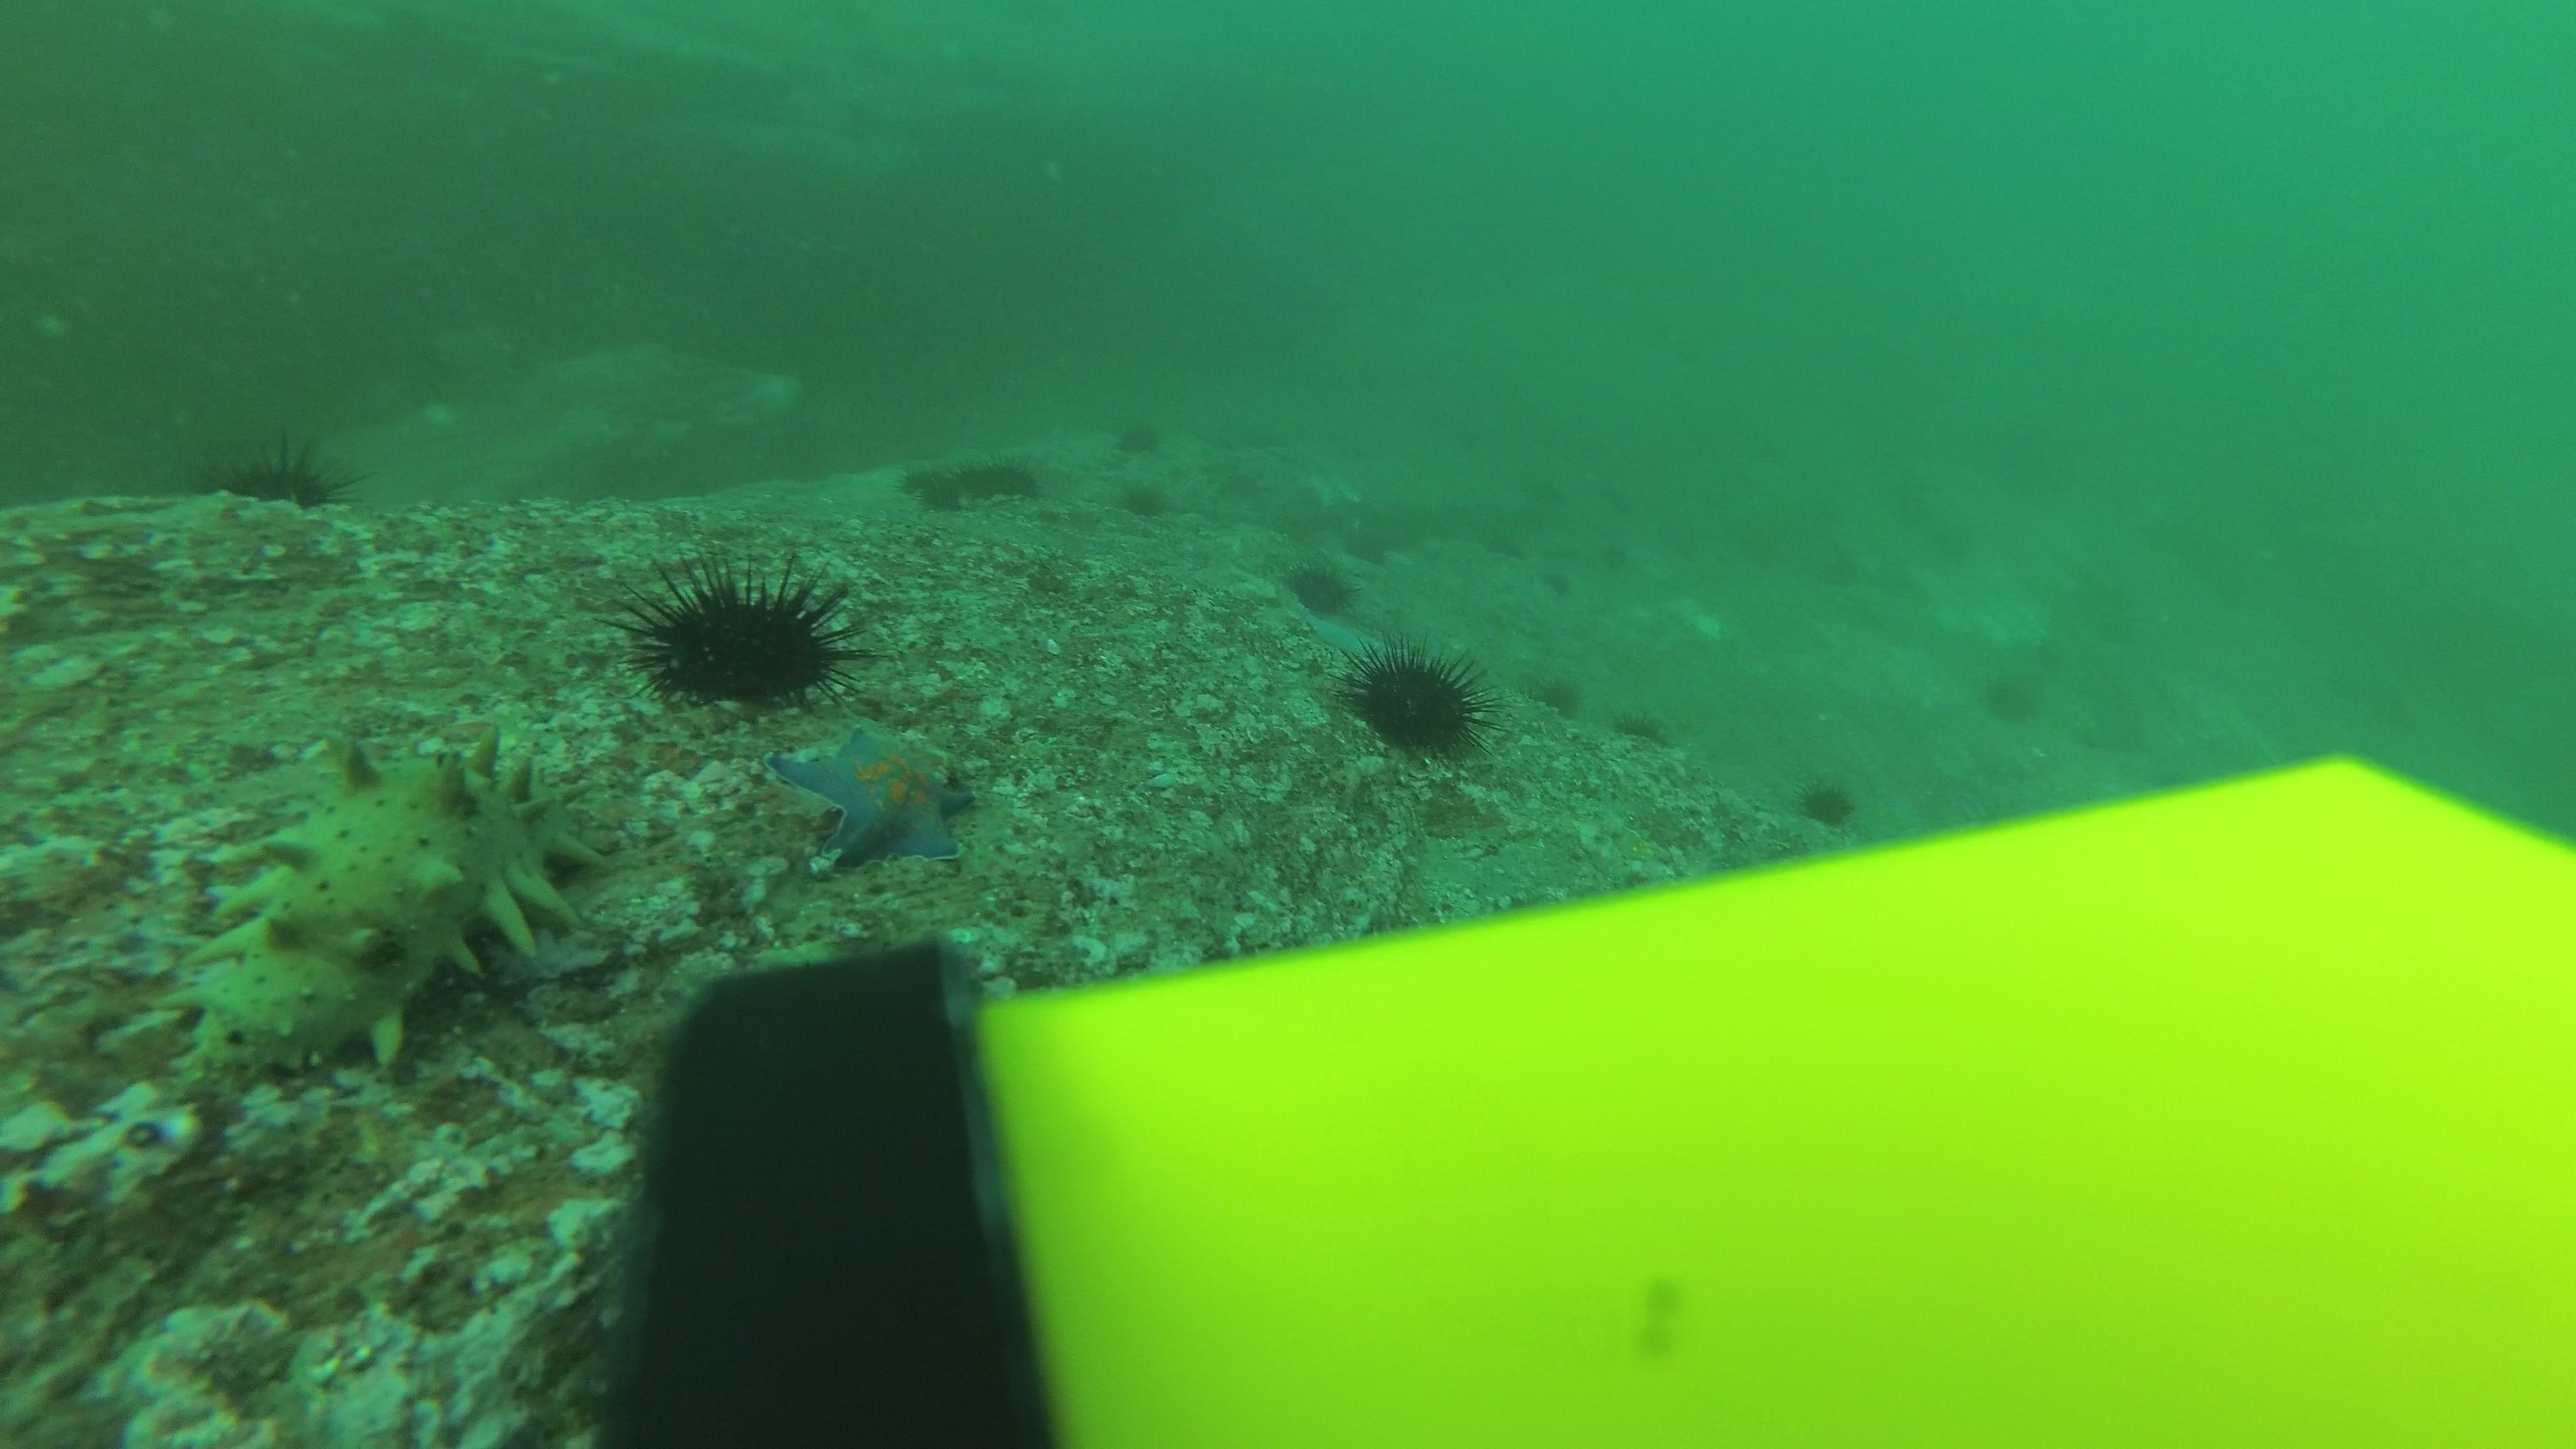echinus: (625, 556, 855, 711), (1346, 640, 1488, 759), (223, 433, 350, 517), (1284, 552, 1357, 616), (1980, 665, 2045, 727), (1796, 771, 1859, 830), (1115, 474, 1171, 522), (1614, 702, 1670, 748), (1483, 524, 1532, 573), (1534, 556, 1583, 605), (1589, 531, 1638, 580), (1732, 527, 1782, 577), (1868, 556, 1918, 605), (1870, 479, 1920, 529), (915, 469, 966, 517), (885, 458, 936, 506), (945, 455, 996, 502), (1534, 671, 1583, 718), (991, 453, 1040, 501), (1668, 513, 1716, 563), (1824, 545, 1874, 593), (1936, 518, 1983, 568), (1215, 460, 1263, 510), (1113, 414, 1164, 458)
holothurian: (177, 732, 605, 1086)
starfish: (766, 715, 978, 872), (1299, 609, 1387, 660)
